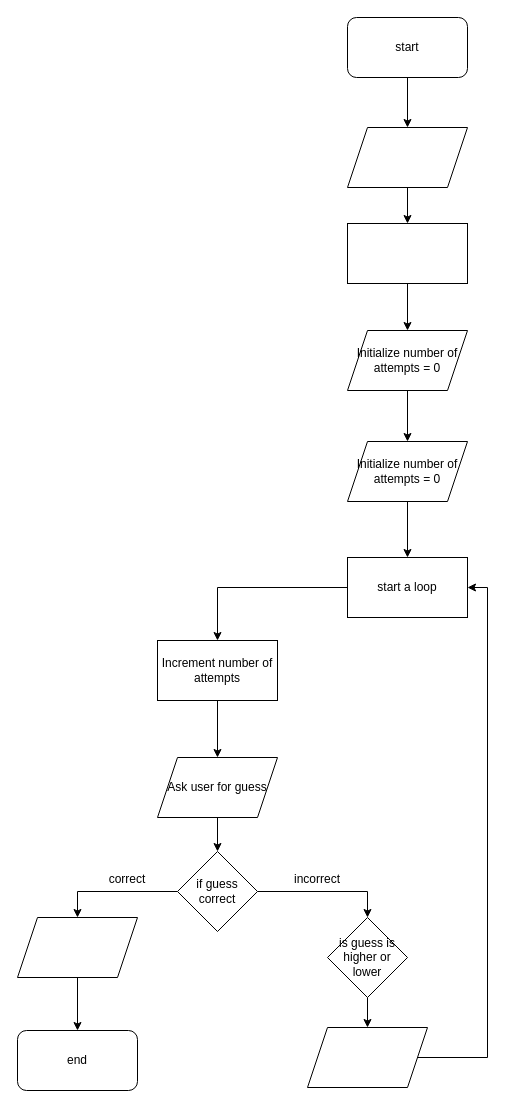
The diagram is 513 pixels wide and 1108 high, and some of its shapes have lost their labels. Here are the shapes that lost their labels. From the top down, the centre of each, then its label:
At (407,157): "Input upper limit number".
At (407,253): "Generate random number between 1 and upper limit".
At (77,947): "output success message".
At (367,1057): "display too high or low try again".
